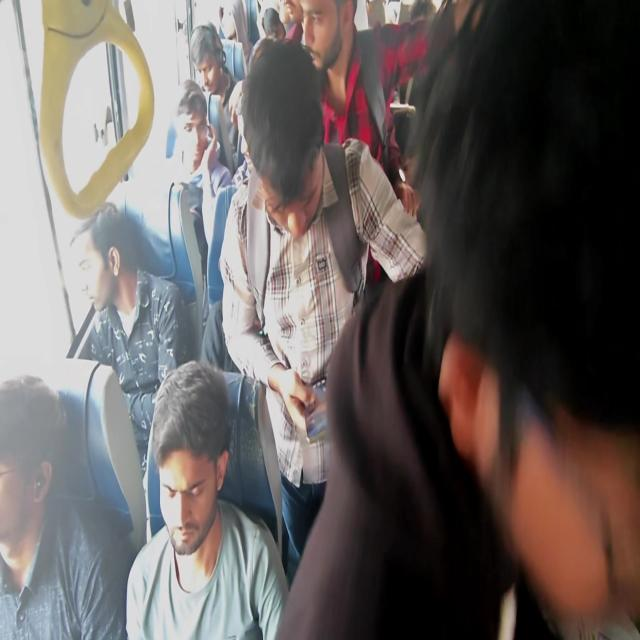person: (5, 1, 637, 638), (420, 0, 639, 638), (218, 37, 428, 583), (274, 265, 516, 638), (124, 360, 290, 638), (69, 200, 189, 540), (0, 374, 131, 638), (298, 0, 432, 217), (124, 79, 233, 285), (188, 20, 244, 152)
